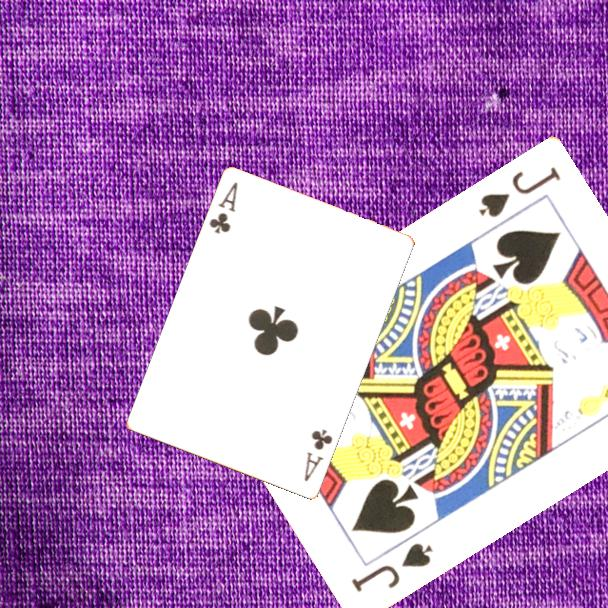c01: (301, 426, 336, 485), (206, 179, 241, 237)
s11: (474, 163, 564, 221), (347, 539, 436, 596)
